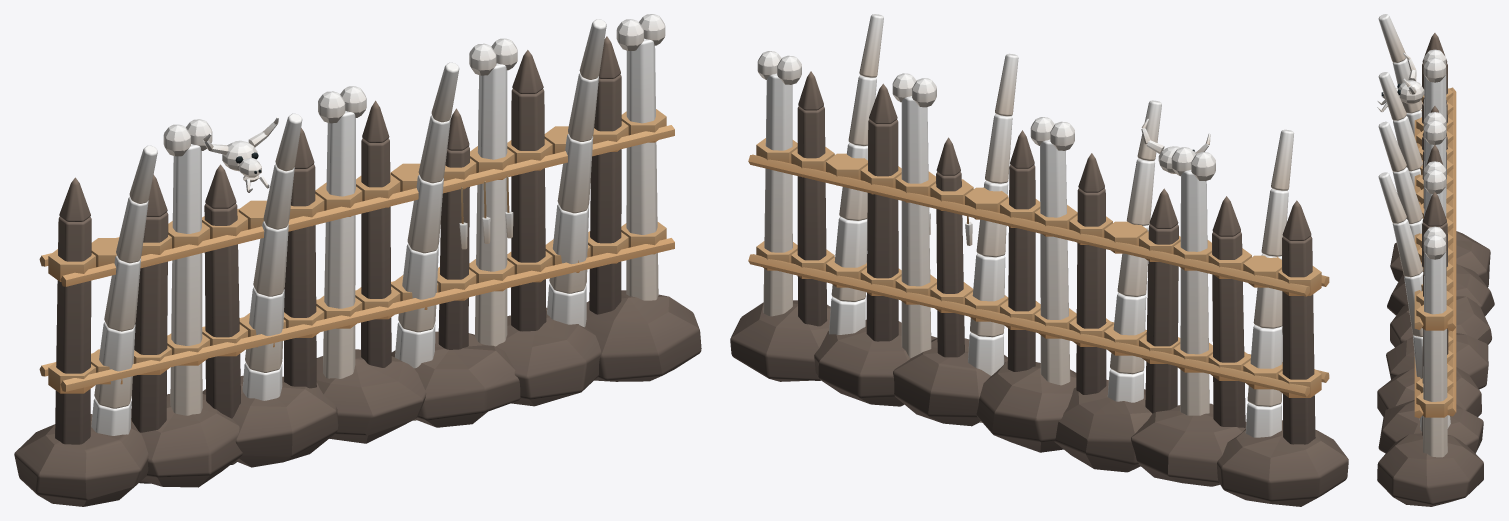
File: bone_palisade.glb
3 views of the same model, side by side, from view 1: azimuth 30°, elevation 25°; view 2: azimuth 150°, elevation 25°; view 3: azimuth 270°, elevation 25° (orthographic). The views are drawn at different scales.
Parts seen in each view (by area): view 1: bone_palisade; view 2: bone_palisade; view 3: bone_palisade.
Part boxes in pixels (x1=…): bone_palisade: x1=14, y1=14, x2=701, y2=506; bone_palisade: x1=730, y1=14, x2=1348, y2=506; bone_palisade: x1=1377, y1=14, x2=1494, y2=506.
Size of the model in its own units: 8.72 by 4.89 by 1.71.
1 material, 1 textured.
